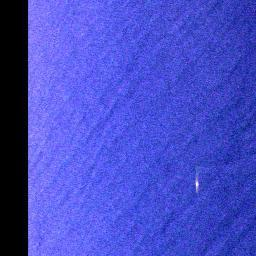Ship: (194, 177, 199, 192)
